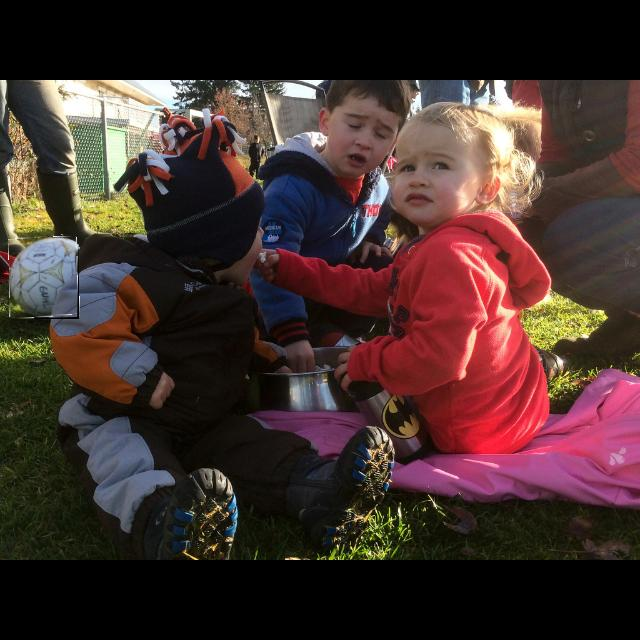Football: (9, 237, 79, 319)
